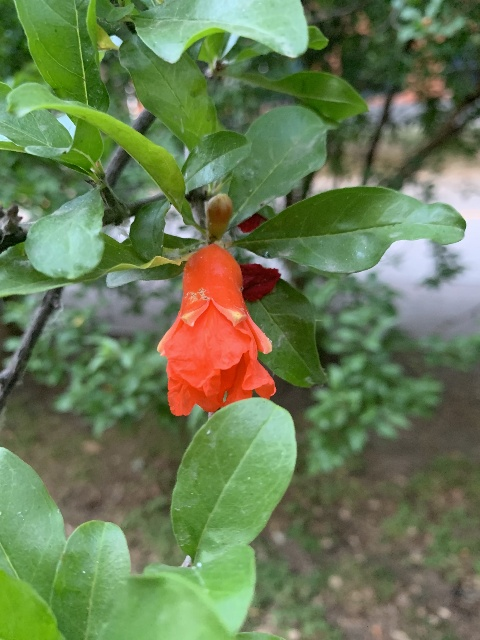bud: (206, 193, 233, 237)
flower: (157, 243, 276, 417)
